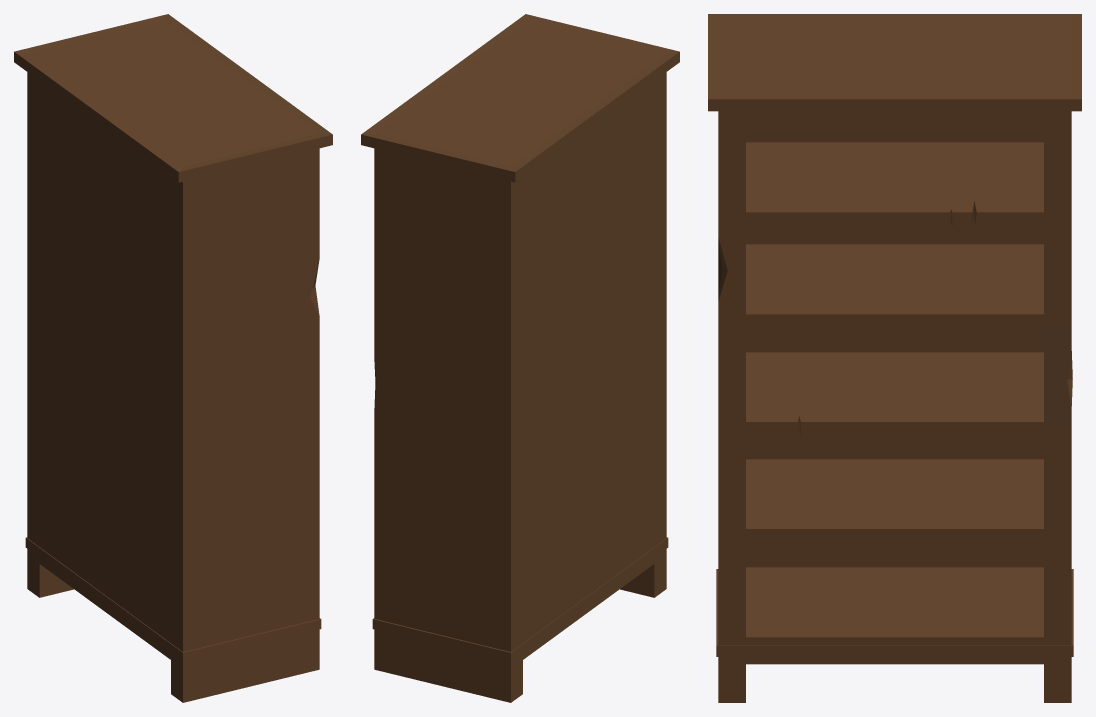
The model's file is shelf.fbx.
3 views of the same model, side by side, from view 1: azimuth 30°, elevation 25°; view 2: azimuth 150°, elevation 25°; view 3: azimuth 270°, elevation 25° (orthographic). The views are drawn at different scales.
Parts seen in each view (by area): view 1: Shelf; view 2: Shelf; view 3: Shelf.
Boxes of the visible parts, x1,y1,x2,y2 form: Shelf: (14,14,332,702); Shelf: (361,14,679,702); Shelf: (708,14,1081,702).
Bounding box in the file's own units: 125 × 417 × 232.
